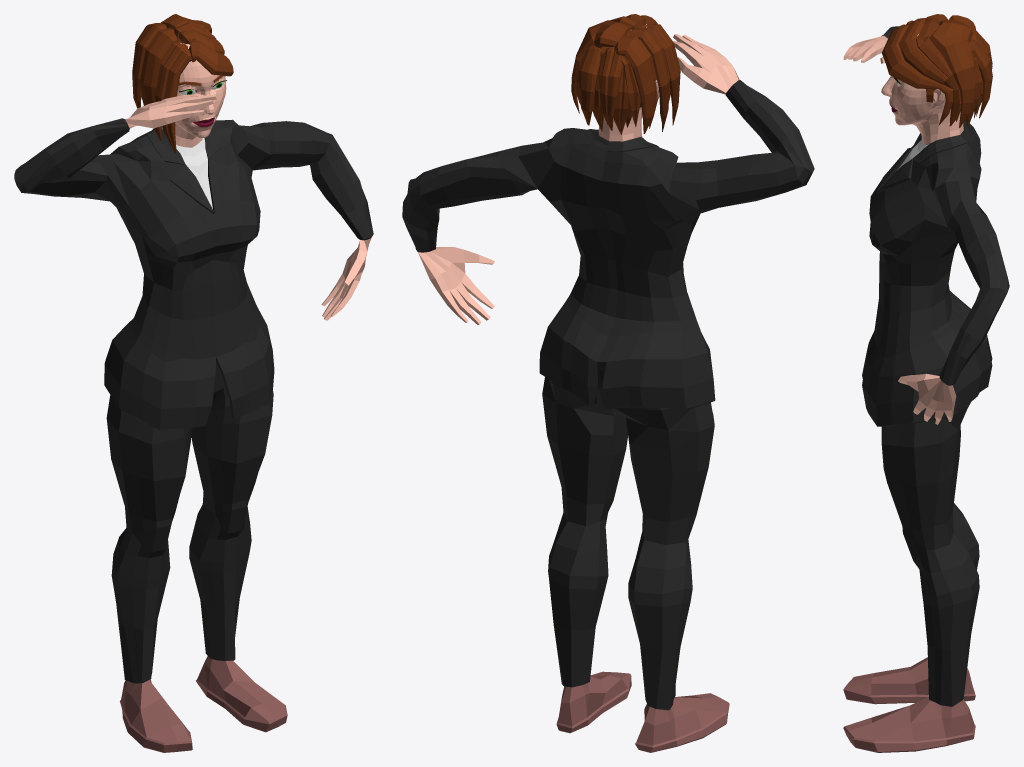
The model's file is _taticPres 1.fbx.
3 renders of one model, left to right at view 1: azimuth 30°, elevation 25°; view 2: azimuth 150°, elevation 25°; view 3: azimuth 270°, elevation 25°, orthographic. The views are drawn at different scales.
Parts seen in each view (by area): view 1: presidentJoined; view 2: presidentJoined; view 3: presidentJoined.
Part boxes in pixels (<box>): presidentJoined: <box>14,14,373,752</box>; presidentJoined: <box>402,14,814,752</box>; presidentJoined: <box>843,14,1009,752</box>.
Bounding box in the file's own units: 107 × 40.73 × 189.
